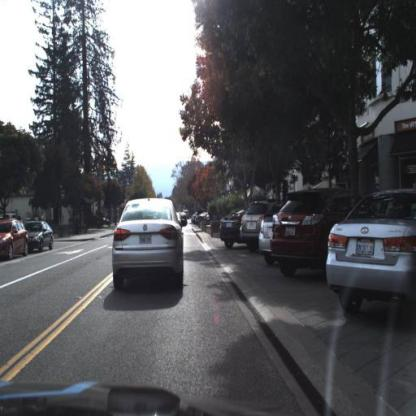car: (330, 192, 415, 315), (113, 196, 186, 298), (273, 190, 329, 278), (2, 218, 29, 257), (241, 202, 259, 253), (29, 221, 55, 253), (260, 209, 274, 267), (221, 213, 240, 250)
